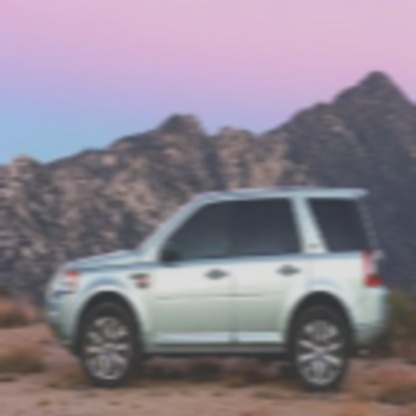Vehicle: (48, 187, 390, 394)
